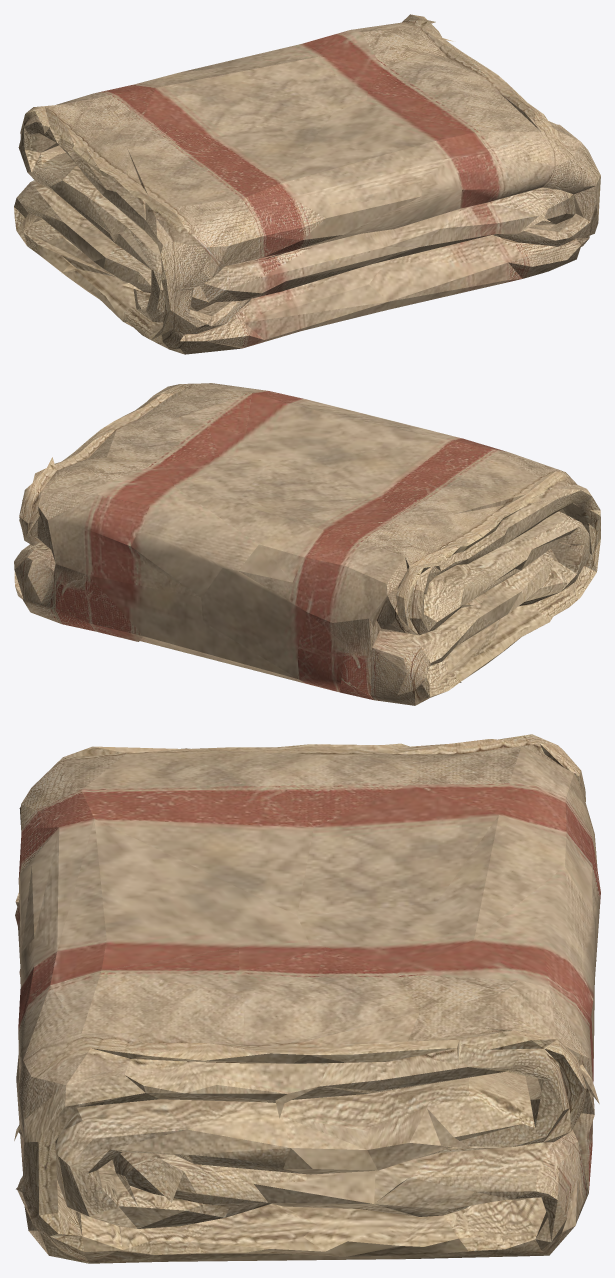
Rendered from towel.glb.
The picture shows the model from 3 angles, top to bottom: view 1: azimuth 30°, elevation 25°; view 2: azimuth 150°, elevation 25°; view 3: azimuth 270°, elevation 25°; orthographic projection. The views are drawn at different scales.
Visible parts, largest first — view 1: output_unwrapped; view 2: output_unwrapped; view 3: output_unwrapped.
Boxes of the visible parts, left/top/right/bottom form: output_unwrapped: left=14, top=14, right=600, bottom=354; output_unwrapped: left=14, top=383, right=600, bottom=705; output_unwrapped: left=14, top=734, right=600, bottom=1263.
Size of the model in its own units: 1.9 by 0.5964 by 1.37.
1 material, 1 textured.
